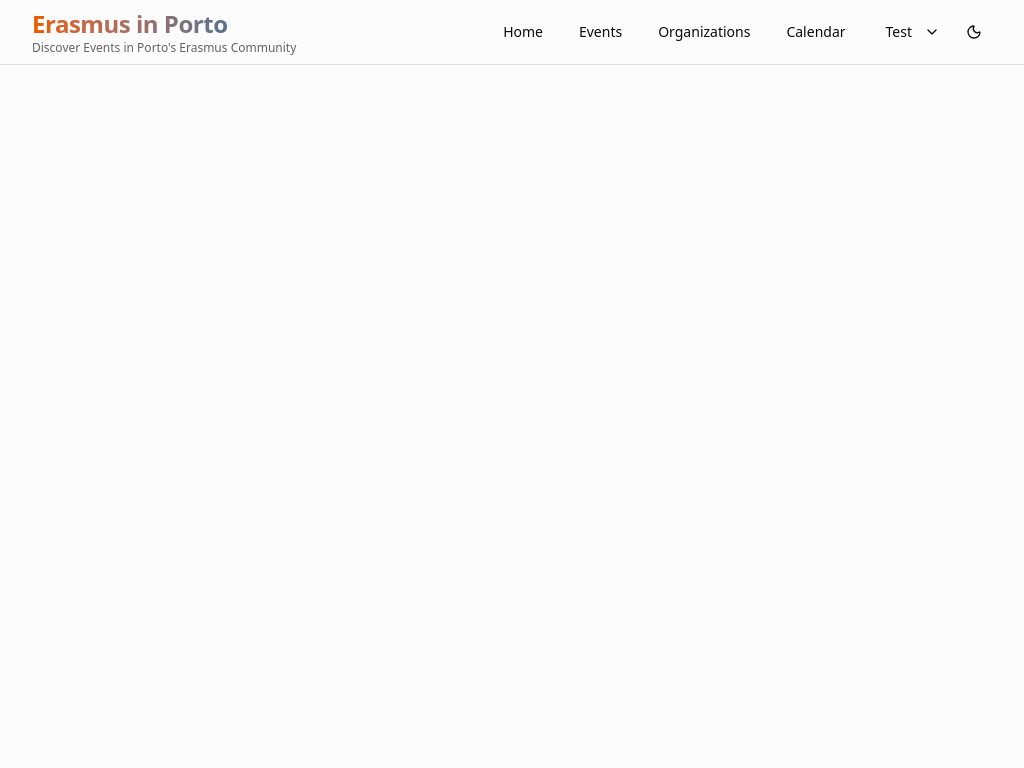
Test: Navbar Component › Authenticated state › should show user menu items when authenticated as ATTENDEE
The width and height of the screenshot is (1024, 768).
# Wait for the user button to appear, then click it to open the dropdown
Click the button "Test" at {"x": 913, "y": 32}, box [874,14,952,50]
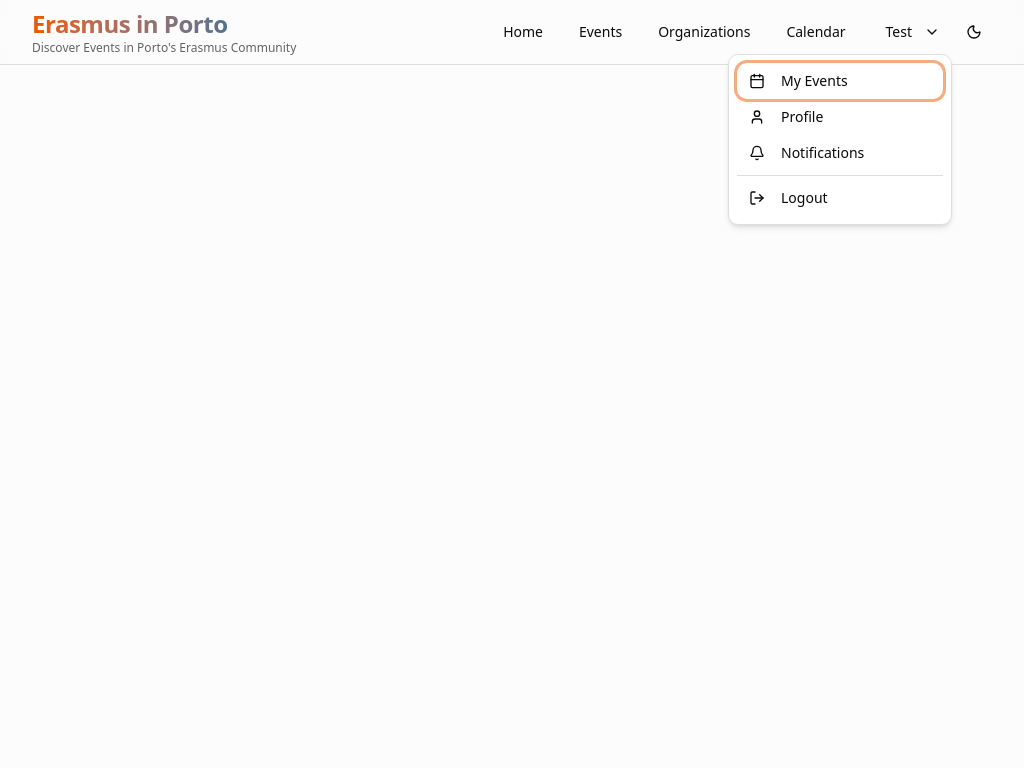
Check: the button "My Events" is shown, box [737,63,943,99]
Check: the button "Profile" is shown, box [737,99,943,135]
Check: the button "Logout" is shown, box [737,180,943,216]
